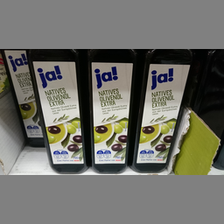oil: (29, 49, 88, 174), (130, 49, 189, 172), (88, 49, 135, 174)
